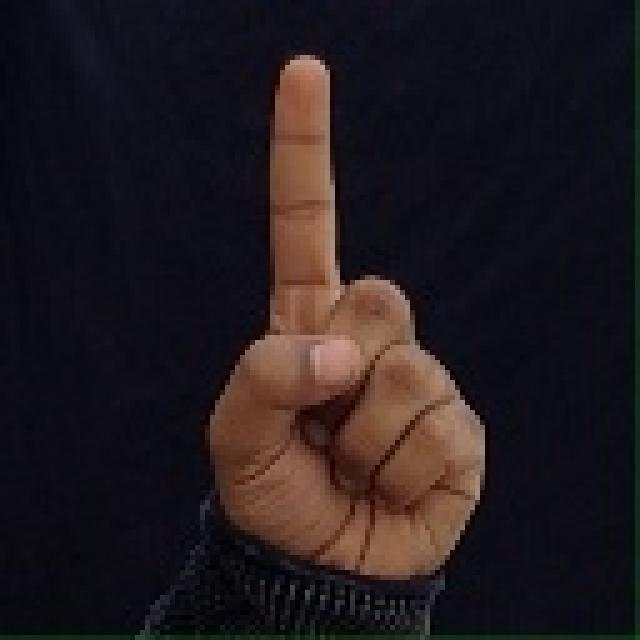Numeric-1: (207, 59, 490, 580)
